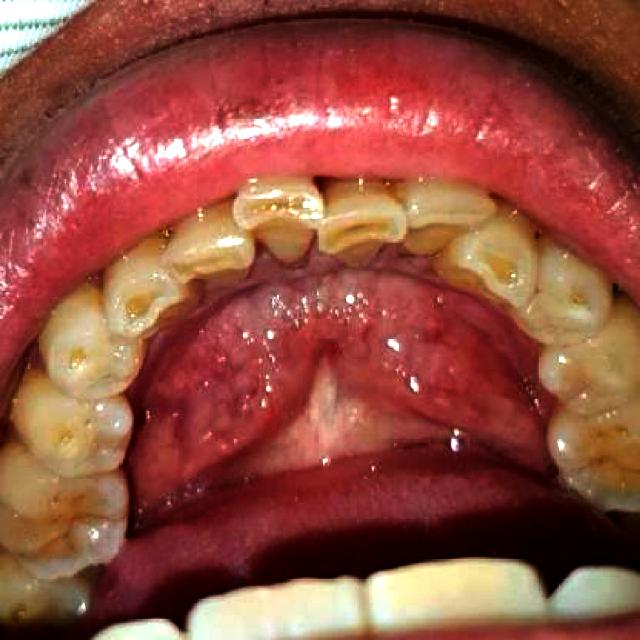Plaque: (41, 506, 122, 557)
